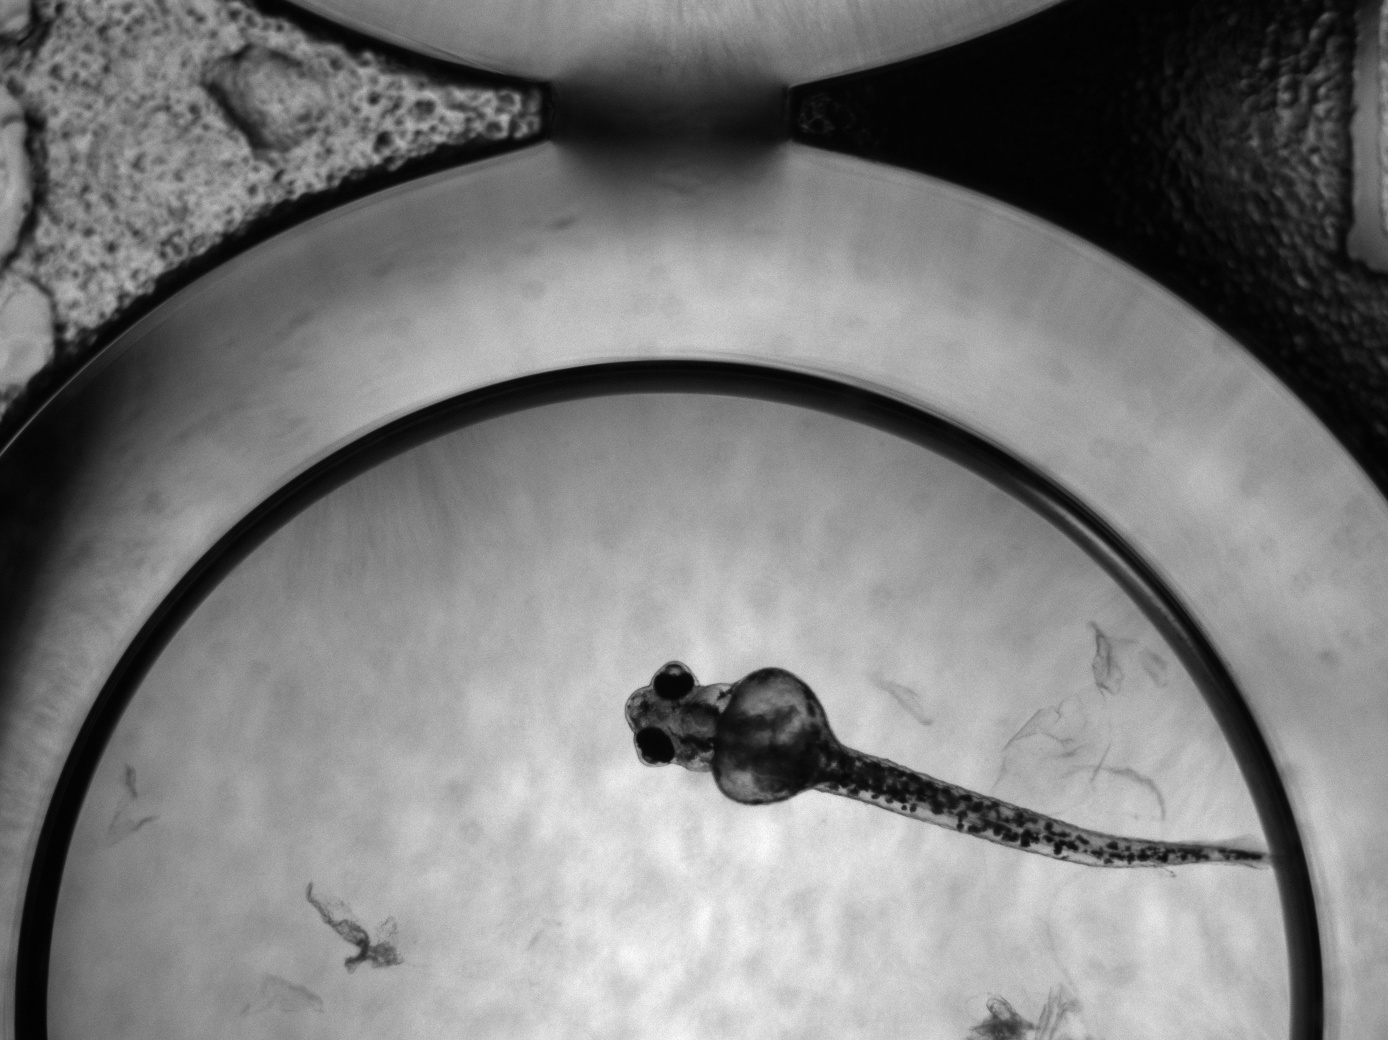debris: (996, 623, 1181, 818), (306, 879, 411, 976)
embryo: (624, 659, 1270, 870)
eye: (634, 726, 675, 767), (653, 663, 695, 700)
yolksac: (712, 667, 835, 806)
